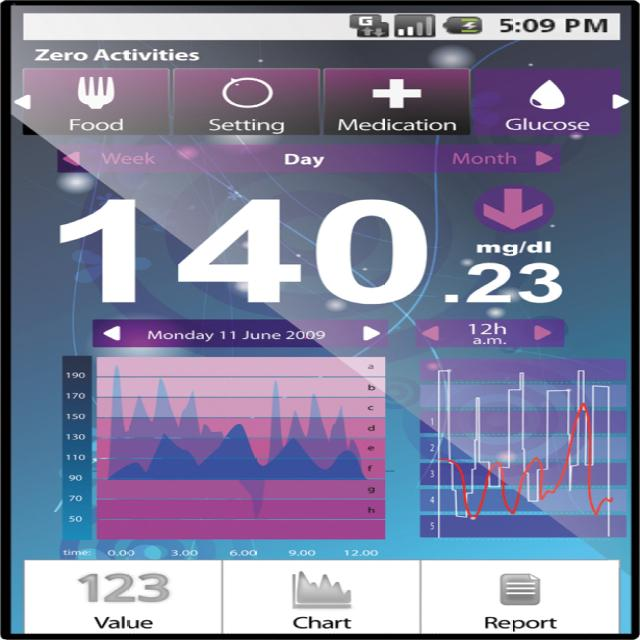Mobile-phone: (0, 2, 639, 640)
